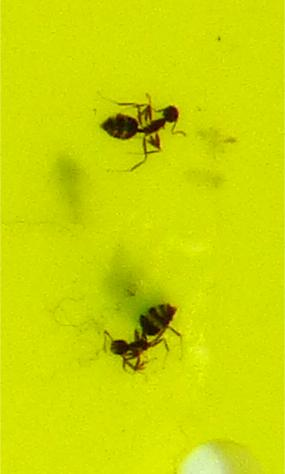Hymenoptera: (100, 268, 185, 374), (100, 100, 182, 168)
